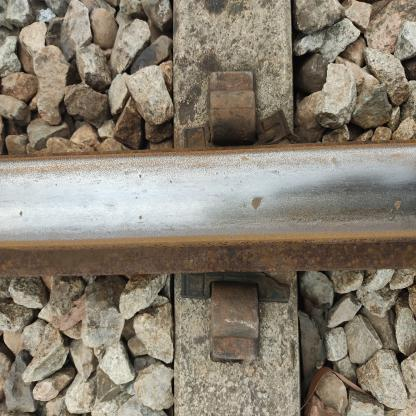Defective: (178, 252, 351, 408), (170, 51, 302, 182)
